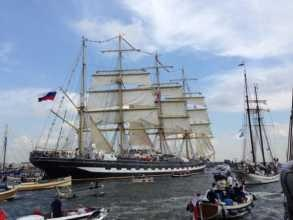fanchuan: (38, 30, 215, 179), (230, 71, 283, 181)
otherboat: (192, 168, 257, 217)
